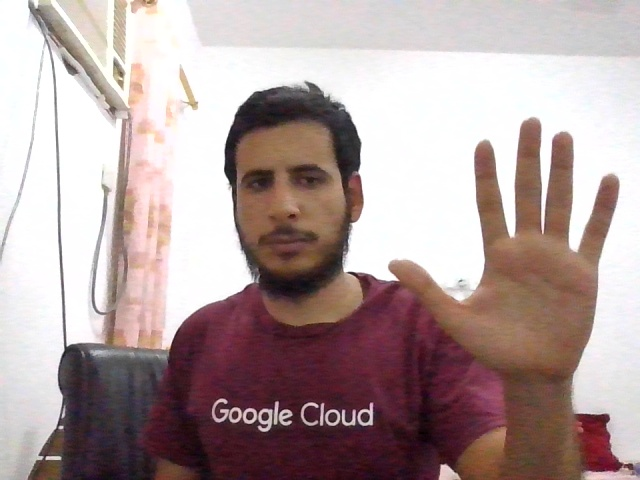Five: (388, 117, 621, 376)
